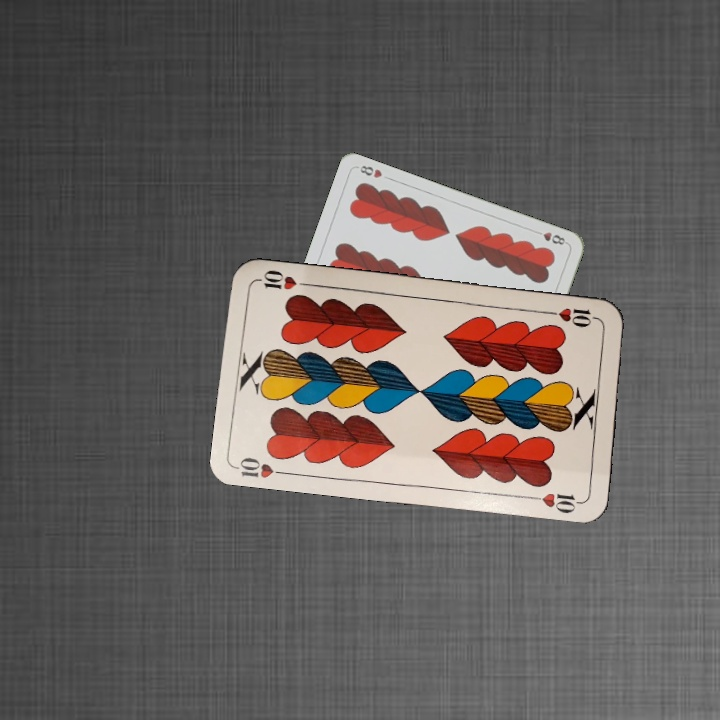H10: (234, 453, 293, 480), (543, 303, 602, 329)
H8: (531, 227, 570, 248)
